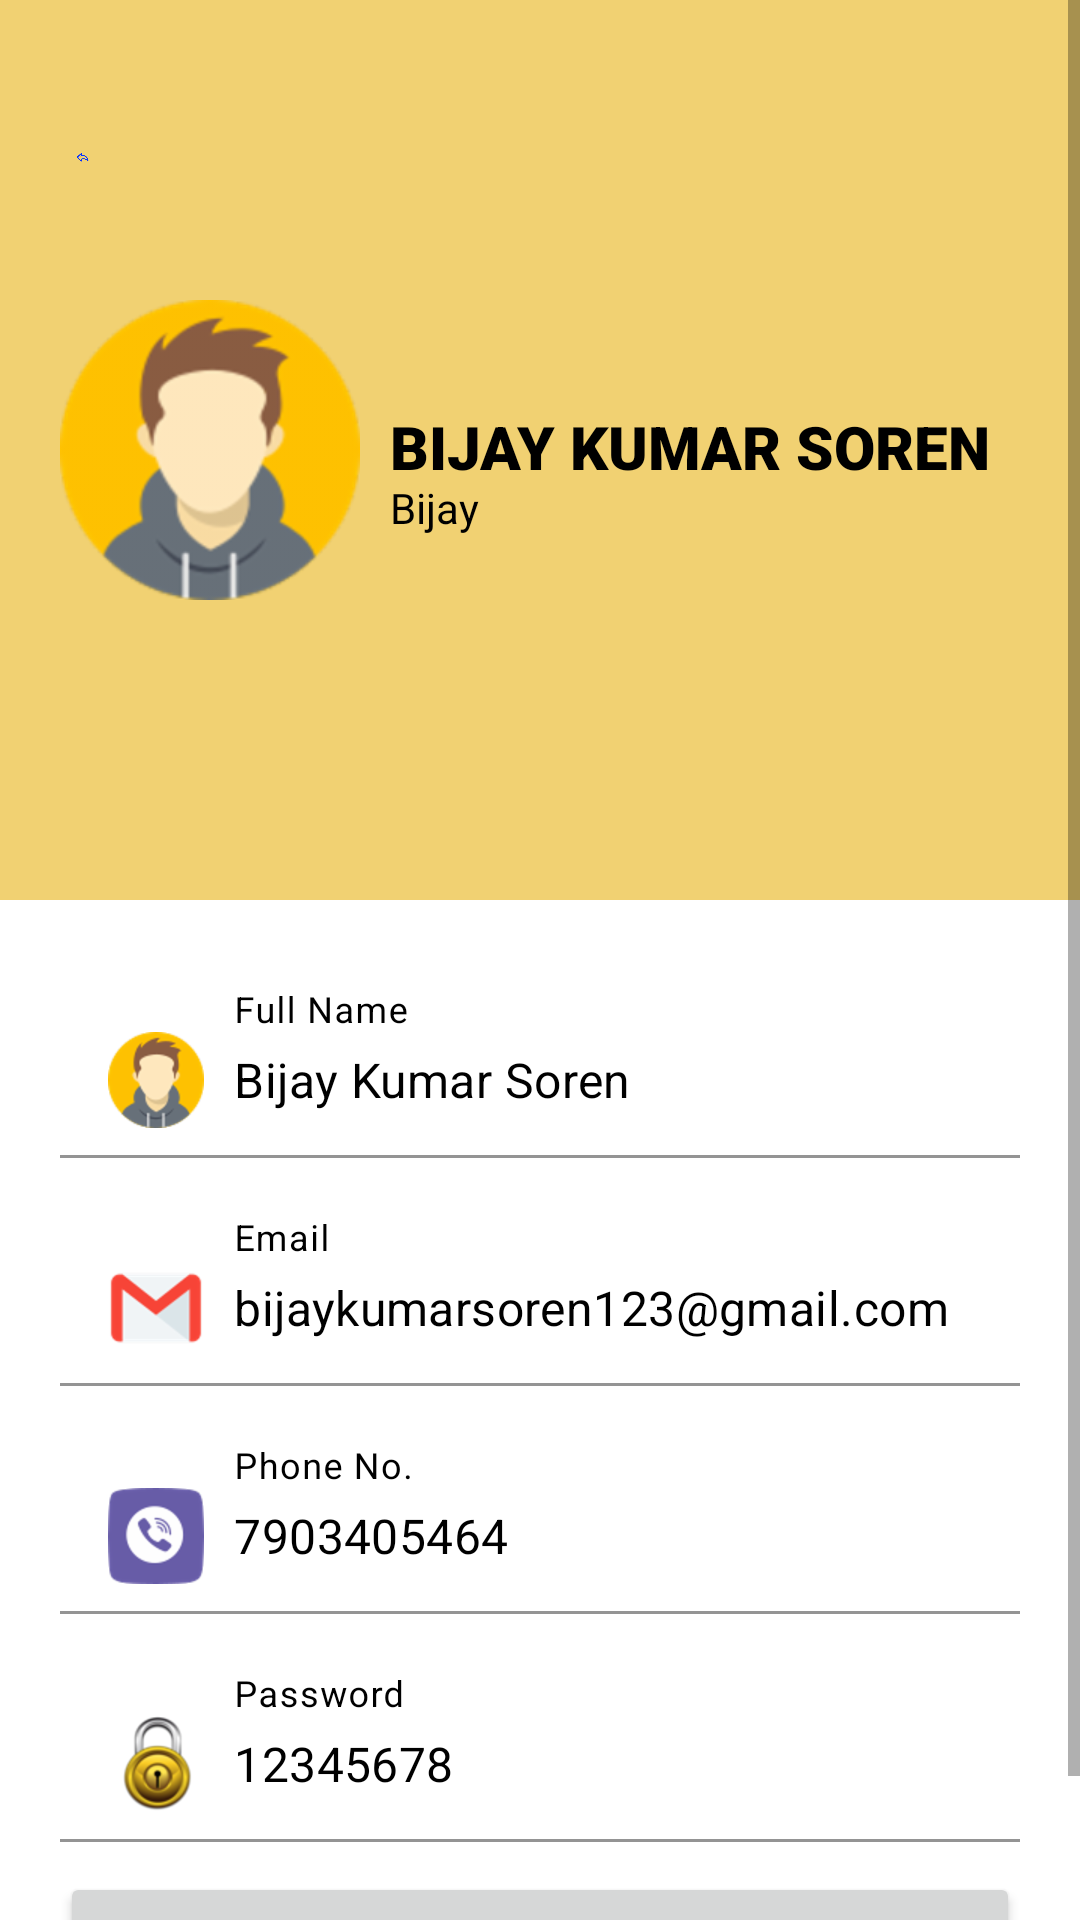

Icon bounding boxes for this 1080px×1920px phone screenshot, format (x1, y1, x2, y2):
profile: (60, 300, 360, 600)
